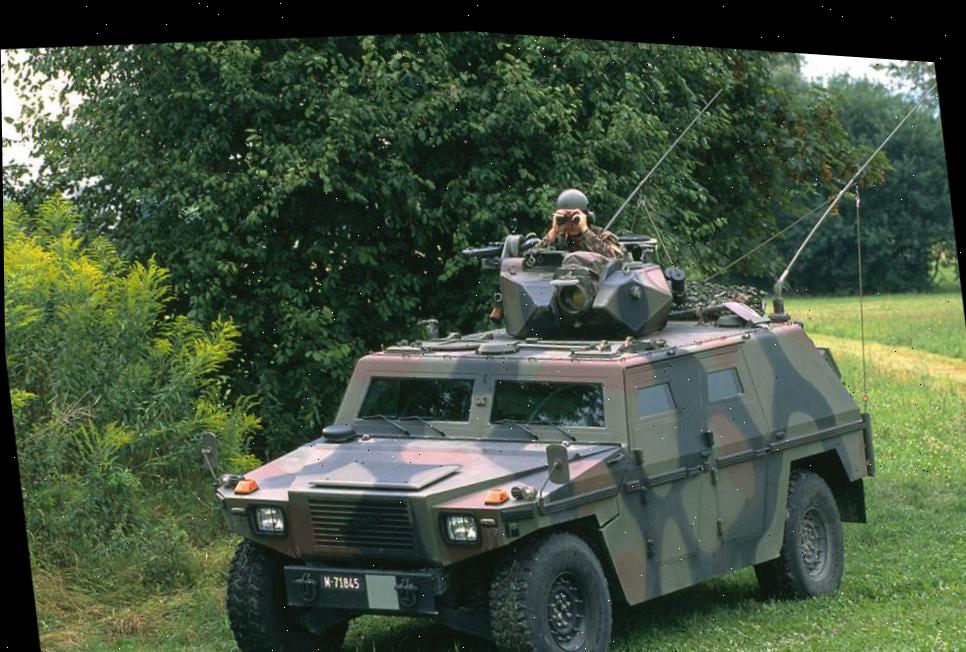armored_car: (174, 174, 903, 652)
